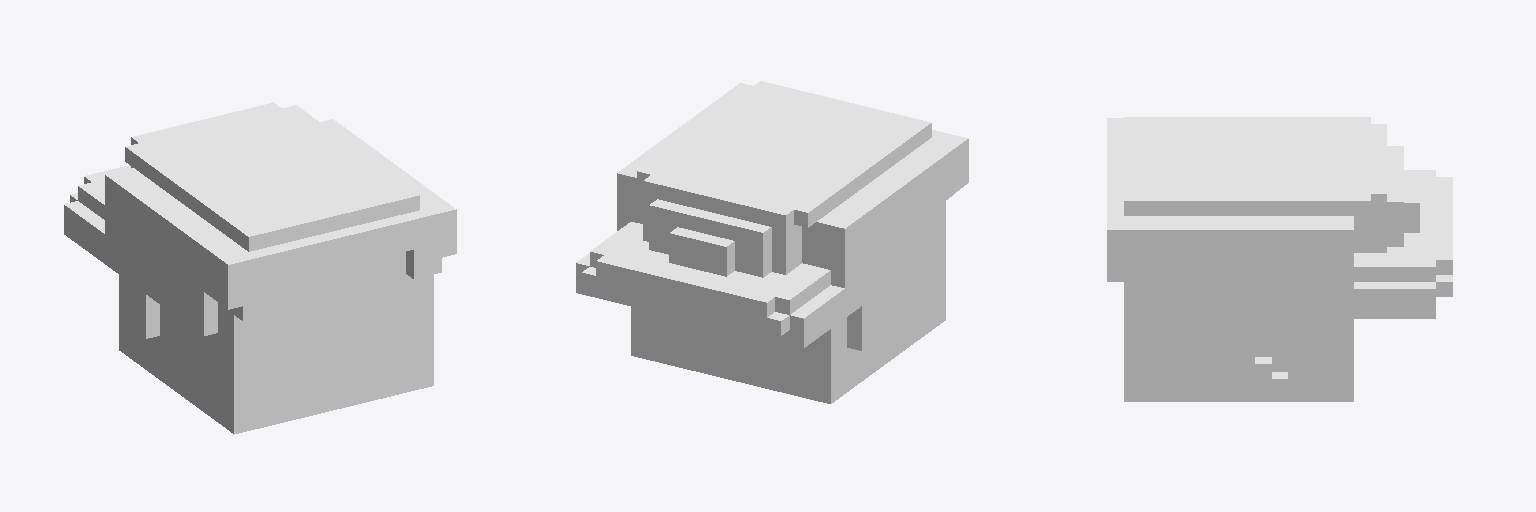
File: Lucas-1.obj
3 views of the same model, side by side, from view 1: azimuth 30°, elevation 25°; view 2: azimuth 150°, elevation 25°; view 3: azimuth 270°, elevation 25° (orthographic).
Visible parts, largest first — view 1: object 1; view 2: object 1; view 3: object 1.
Boxes of the visible parts, x1,y1,x2,y2 form: object 1: [64, 102, 456, 434]; object 1: [576, 81, 968, 403]; object 1: [1107, 117, 1452, 401].
Size of the model in its own units: 1.6 by 1.3 by 2.1.